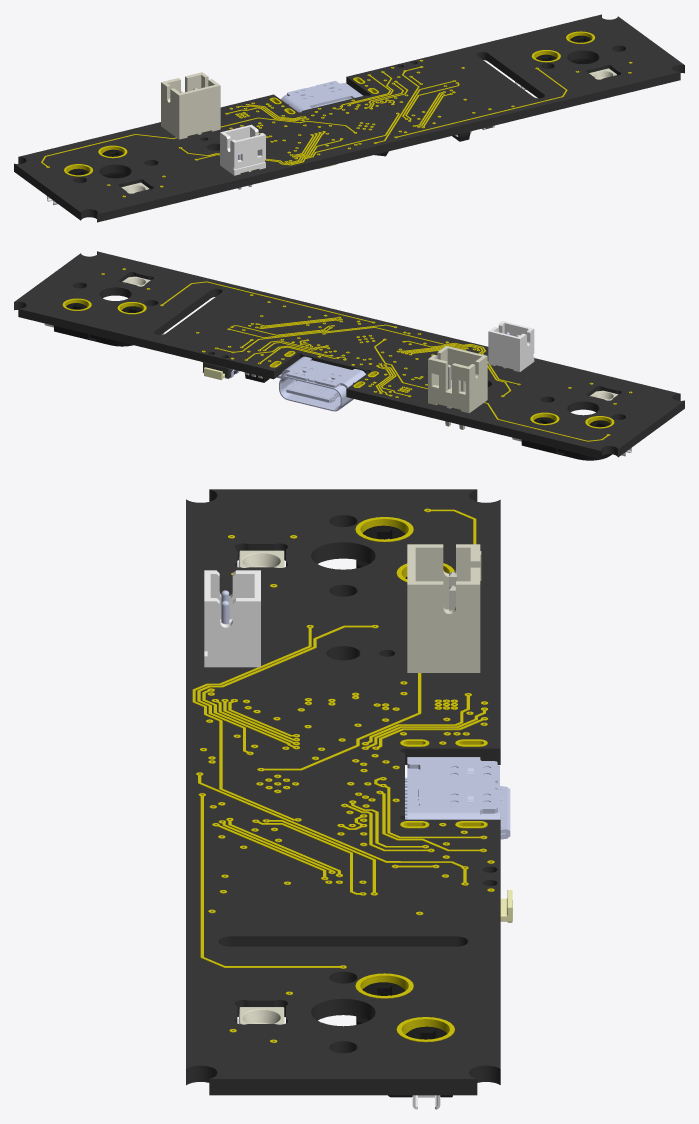
The model's file is board.glb.
3 views of the same model, one above another, from view 1: azimuth 30°, elevation 25°; view 2: azimuth 150°, elevation 25°; view 3: azimuth 270°, elevation 25° (orthographic). The views are drawn at different scales.
Visible parts, largest first — view 1: =>[0:1:1:23], =>[0:1:1:22], J2, NAUO1, J1, SW1, SW2; view 2: =>[0:1:1:23], =>[0:1:1:22], J2, J1, NAUO1, SW1, SW2, SW3; view 3: =>[0:1:1:23], =>[0:1:1:22], J2, J1, NAUO1, SW2.
Part boxes in pixels (left/top/right/bottom): =>[0:1:1:23]: left=14, top=14, right=684, bottom=222; =>[0:1:1:22]: left=41, top=31, right=632, bottom=197; J2: left=161, top=72, right=220, bottom=139; NAUO1: left=220, top=124, right=265, bottom=175; J1: left=275, top=81, right=363, bottom=112; SW1: left=47, top=149, right=127, bottom=205; SW2: left=515, top=35, right=595, bottom=90; =>[0:1:1:23]: left=14, top=251, right=684, bottom=459; =>[0:1:1:22]: left=62, top=268, right=632, bottom=441; J2: left=428, top=346, right=487, bottom=429; J1: left=275, top=355, right=365, bottom=411; NAUO1: left=488, top=321, right=534, bottom=371; SW1: left=512, top=417, right=631, bottom=460; SW2: left=44, top=303, right=164, bottom=346; SW3: left=201, top=361, right=239, bottom=379; =>[0:1:1:23]: left=186, top=489, right=500, bottom=1095; =>[0:1:1:22]: left=192, top=508, right=494, bottom=1042; J2: left=407, top=544, right=481, bottom=672; J1: left=405, top=757, right=510, bottom=839; NAUO1: left=204, top=570, right=260, bottom=667; SW2: left=356, top=982, right=452, bottom=1109.
Bounding box in the file's own units: 0.086 × 0.00961 × 0.0201.
